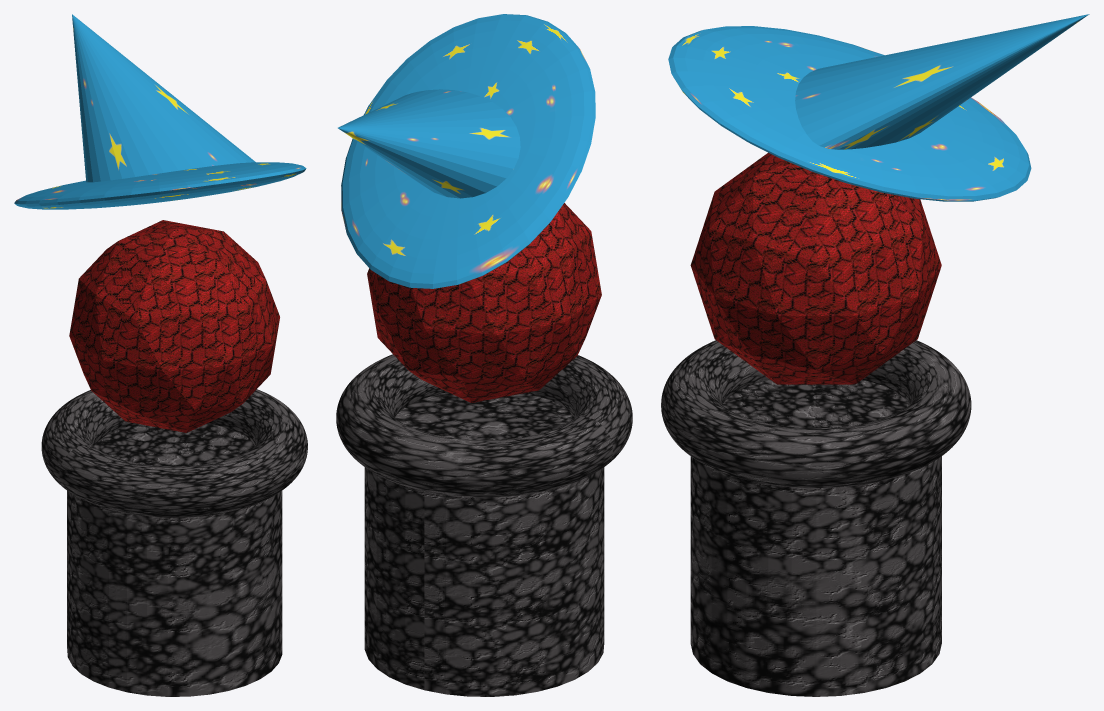
The model's file is Wizard Tower.fbx.
3 renders of one model, left to right at view 1: azimuth 30°, elevation 25°; view 2: azimuth 150°, elevation 25°; view 3: azimuth 270°, elevation 25°, orthographic. The views are drawn at different scales.
Parts seen in each view (by area): view 1: Cylinder, Icosphere, Torus, Cone, Sphere; view 2: Cylinder, Sphere, Icosphere, Torus, Cone; view 3: Cylinder, Icosphere, Sphere, Torus, Cone.
Part boxes in pixels (x1,y1,x2,y2): Cylinder: [67, 423, 282, 696]; Icosphere: [69, 220, 279, 432]; Torus: [41, 389, 307, 517]; Cone: [72, 14, 255, 182]; Sphere: [14, 162, 306, 209]; Cylinder: [364, 392, 604, 696]; Sphere: [341, 14, 595, 288]; Icosphere: [367, 203, 601, 402]; Torus: [336, 354, 632, 497]; Cone: [338, 89, 520, 198]; Cylinder: [690, 379, 941, 696]; Icosphere: [690, 152, 941, 384]; Sphere: [668, 26, 1031, 201]; Torus: [661, 340, 971, 487]; Cone: [795, 14, 1089, 149].
Size of the model in its own units: 247 by 561 by 341.
Materials: 5 (5 with a texture image).
